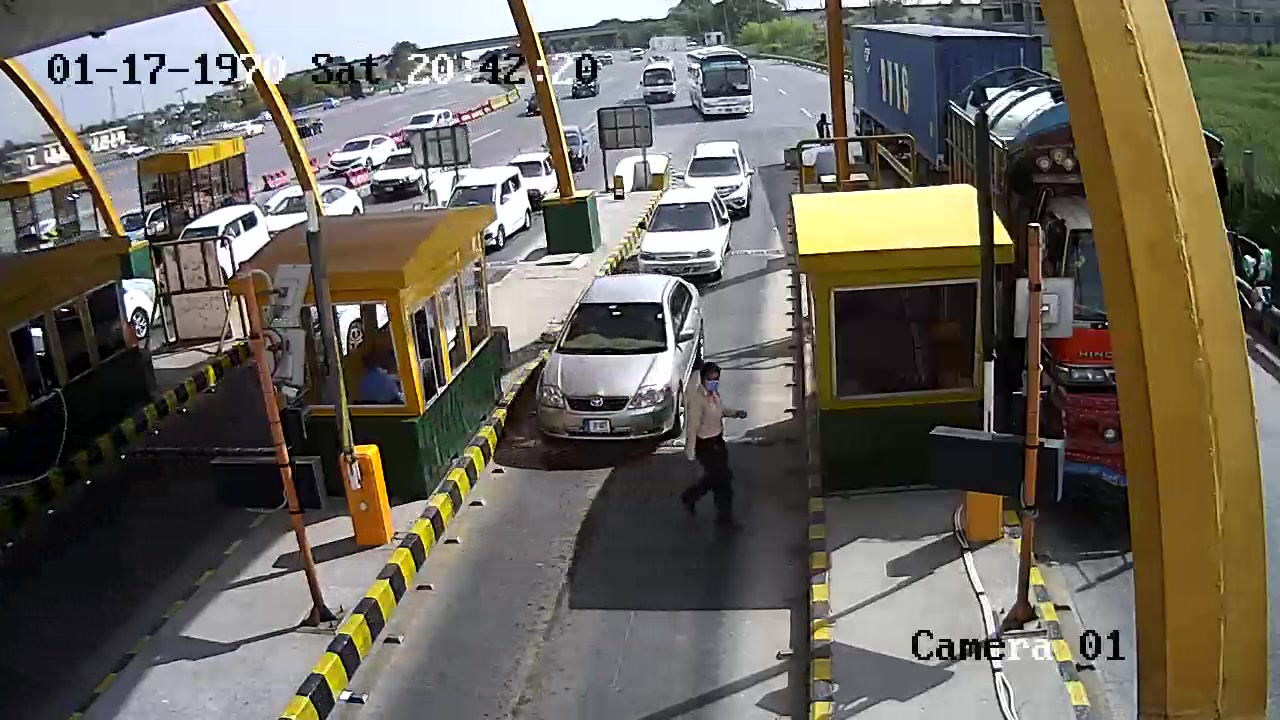F1: (531, 270, 713, 464)
